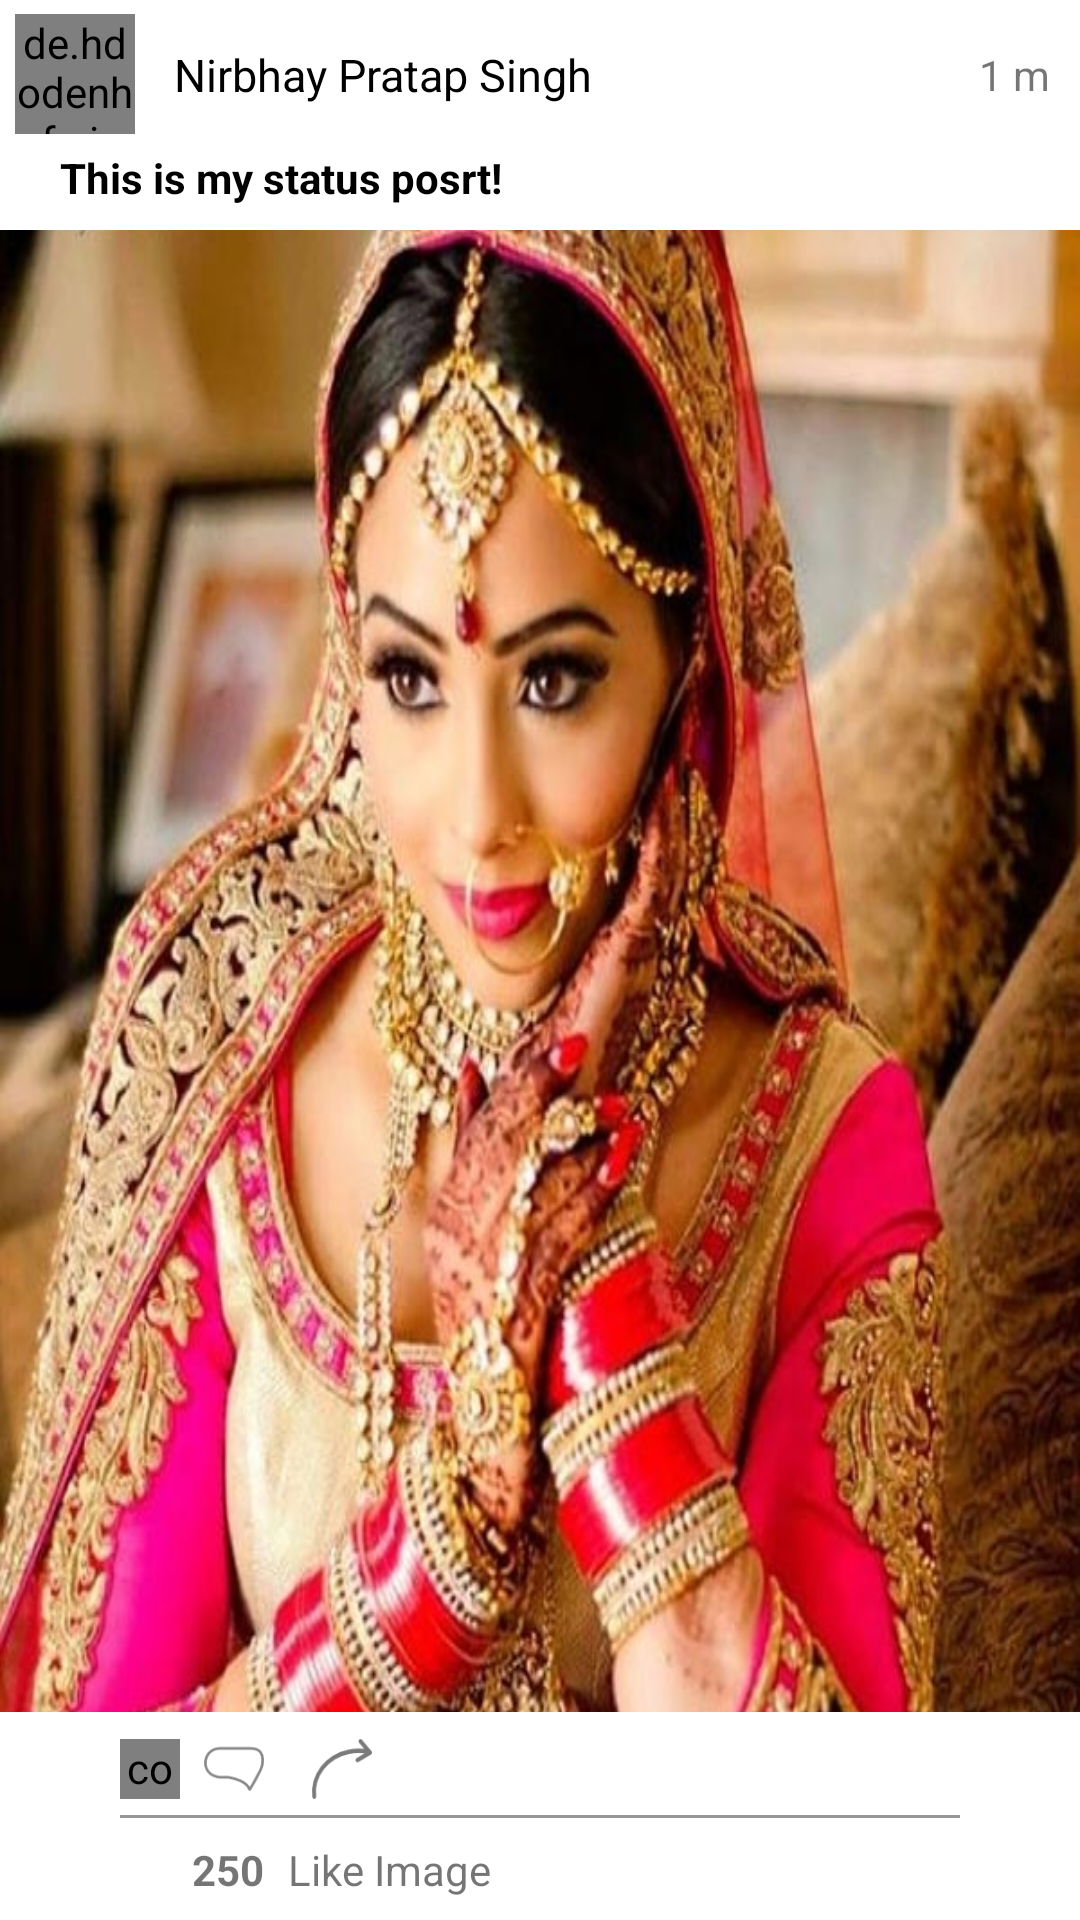

Named icons in this screenshot (1080px×1920px) and their bounding boxes, (x1, y1, x2, y2):
share: (312, 1739, 372, 1799)
text bubble: (204, 1747, 264, 1791)
